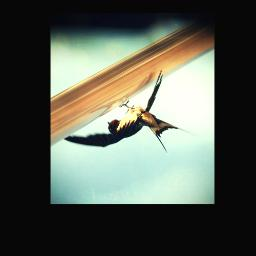Swallow: (62, 70, 200, 155)
